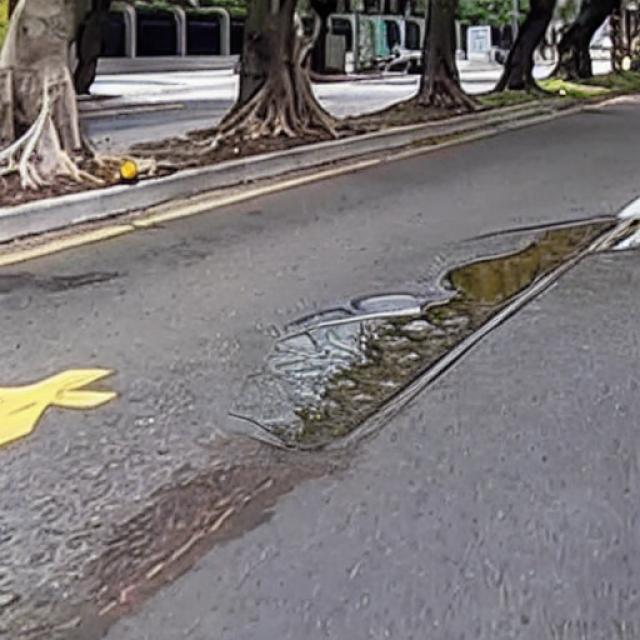puddle: (267, 216, 623, 447)
